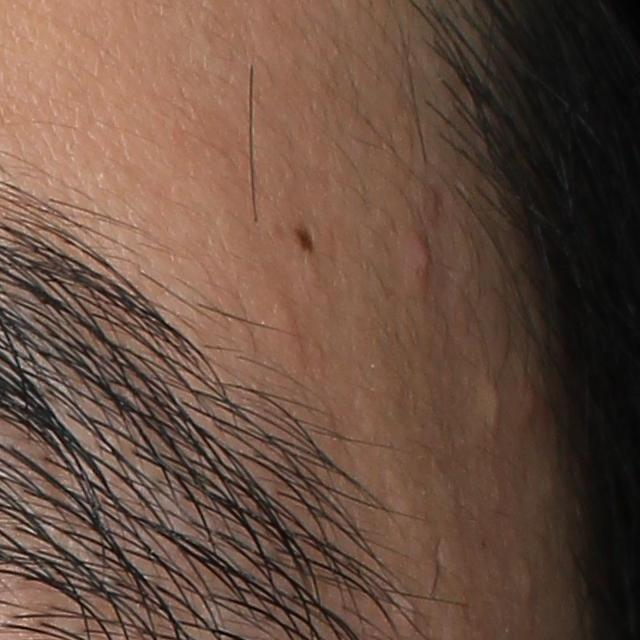nevus: (293, 227, 314, 255)
papule: (405, 229, 436, 293)
